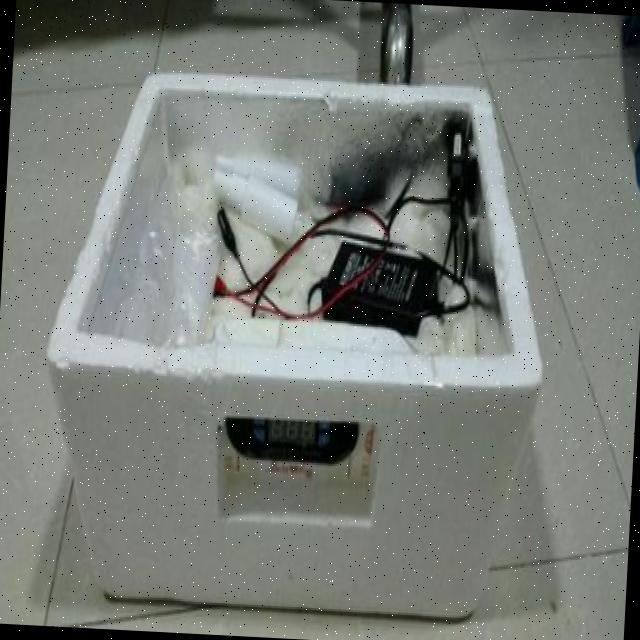styrofoam: (32, 61, 558, 626)
